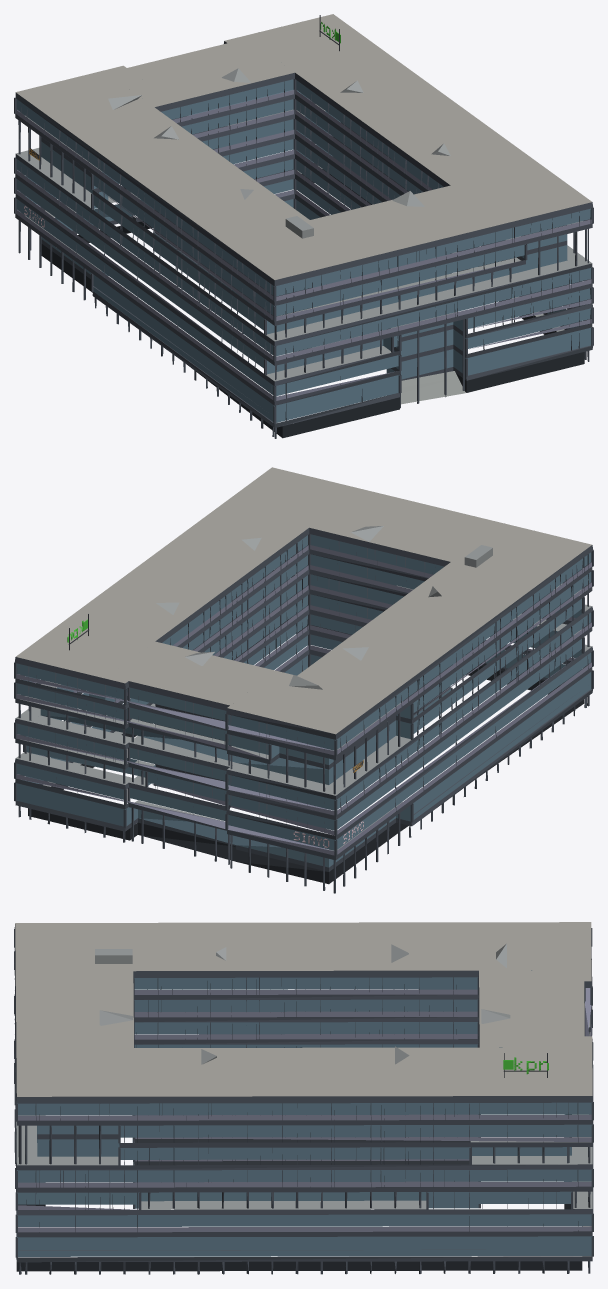
File: kpn-teleport.lod1.glb
The picture shows the model from 3 angles, top to bottom: view 1: azimuth 30°, elevation 25°; view 2: azimuth 150°, elevation 25°; view 3: azimuth 270°, elevation 25°; orthographic projection. The views are drawn at different scales.
Visible parts, largest first — view 1: kpn-teleport; view 2: kpn-teleport; view 3: kpn-teleport.
Part boxes in pixels (x1=…): kpn-teleport: x1=14, y1=14, x2=593, y2=438; kpn-teleport: x1=14, y1=467, x2=593, y2=893; kpn-teleport: x1=14, y1=922, x2=593, y2=1274.
Size of the model in its own units: 60.97 by 32.8 by 84.75.
